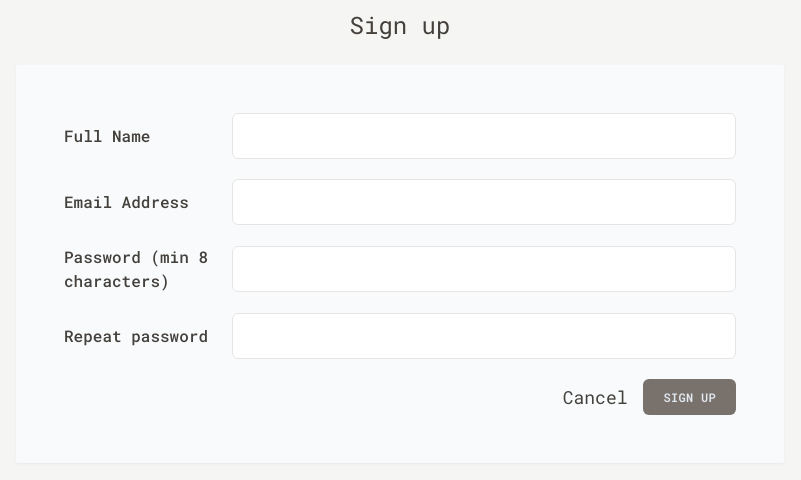
sign up form tests › displays error if the emails is invalid
Type "Natalie" into the field named "fullName" next to "Full Name". click: (484, 136)
box: [232,113,736,159]
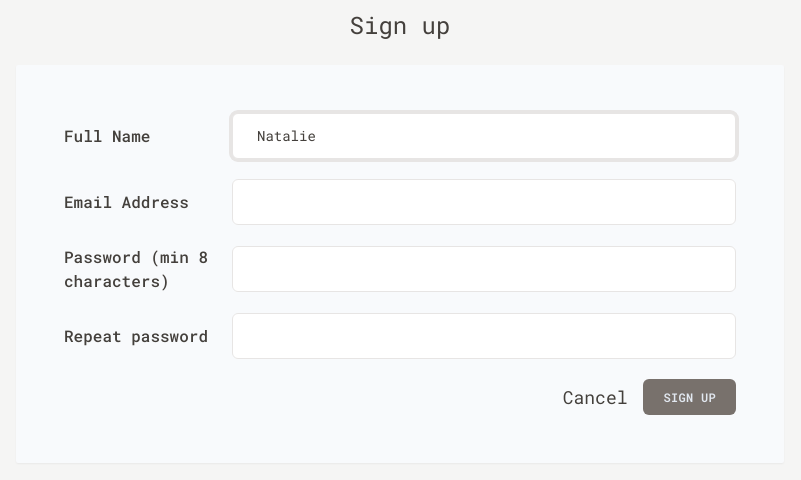
Type "natalie@example" into the field named "email" next to "Email Address". click: (484, 202)
box: [232,179,736,225]
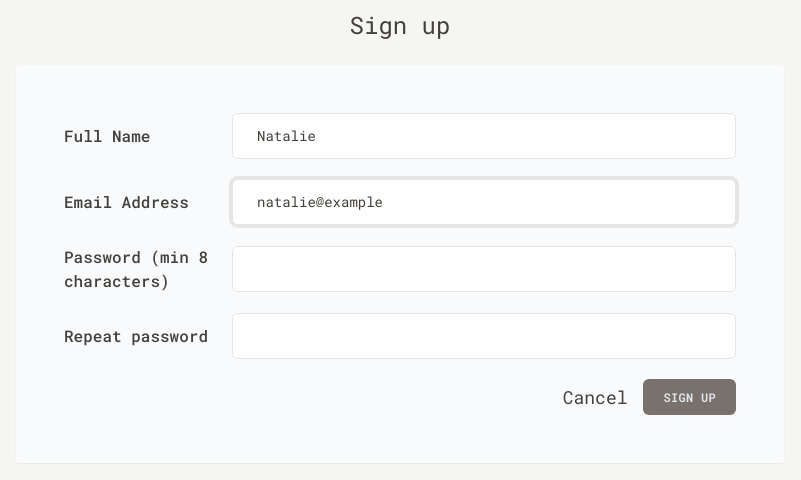
Type "12345678" into the password field named "password" next to "Password (min 8 characters)". click: (484, 269)
box: [232,246,736,292]
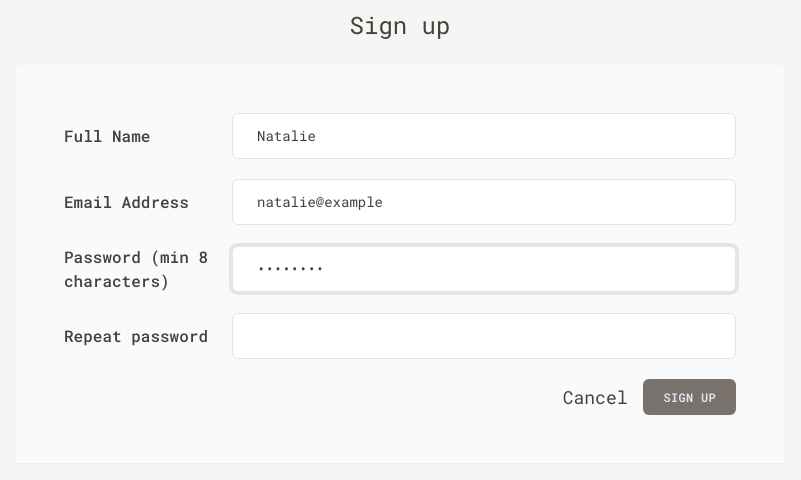
Type "12345678" into the password field named "passwordConfirm" next to "Repeat password". click: (484, 336)
box: [232,313,736,359]
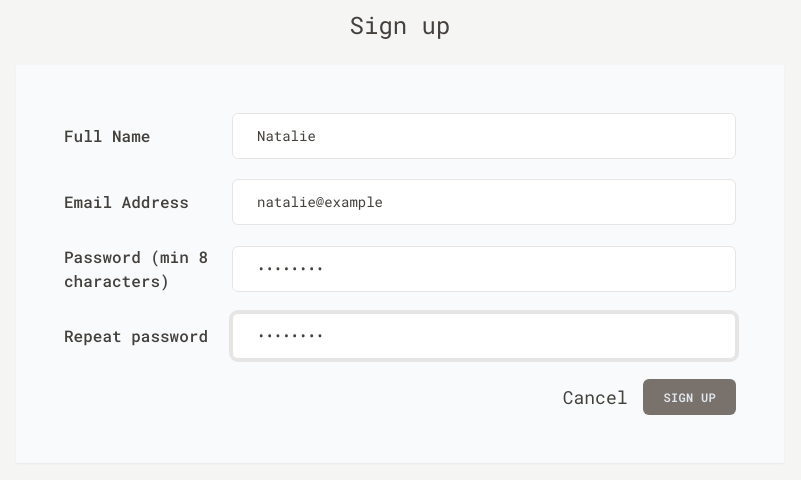
Click the button "Sign up". click: (691, 397)
box: [644,379,737,415]
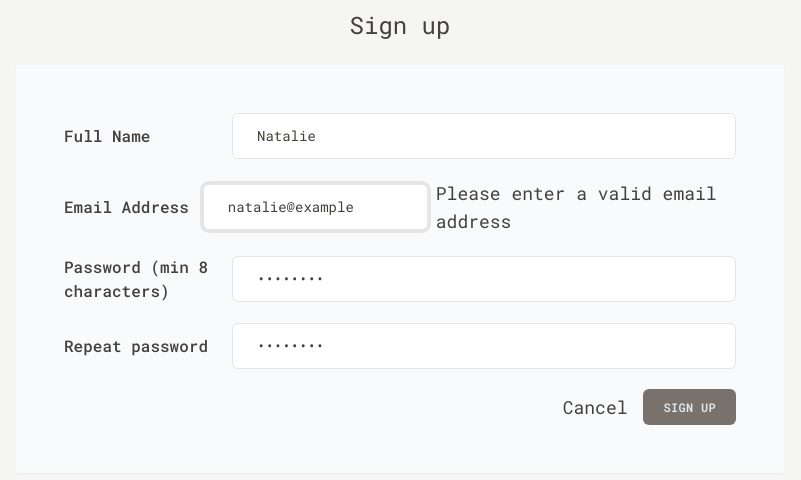
Result: the text "Please enter a valid email address" is shown at [436,179,736,235]
